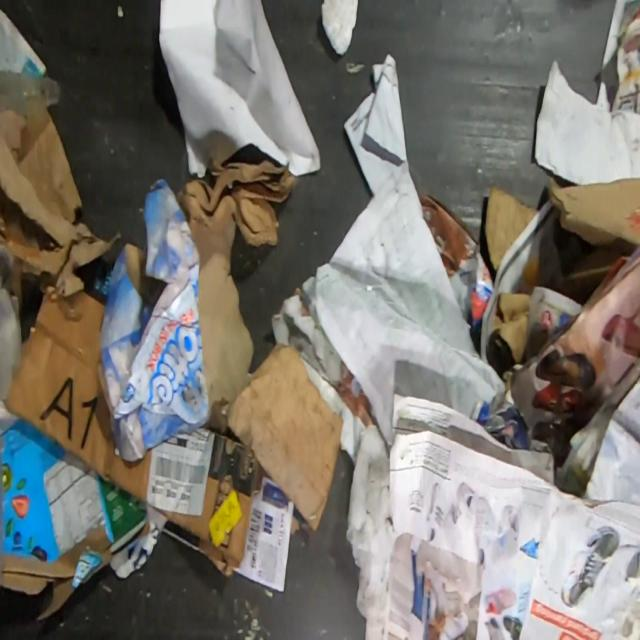cardboard: (5, 290, 258, 568), (88, 178, 211, 462), (0, 418, 151, 621), (0, 94, 122, 318), (228, 343, 345, 531), (175, 158, 299, 275), (548, 176, 640, 247), (485, 184, 539, 271), (492, 293, 532, 364)
soft_plastic: (321, 0, 360, 57)
